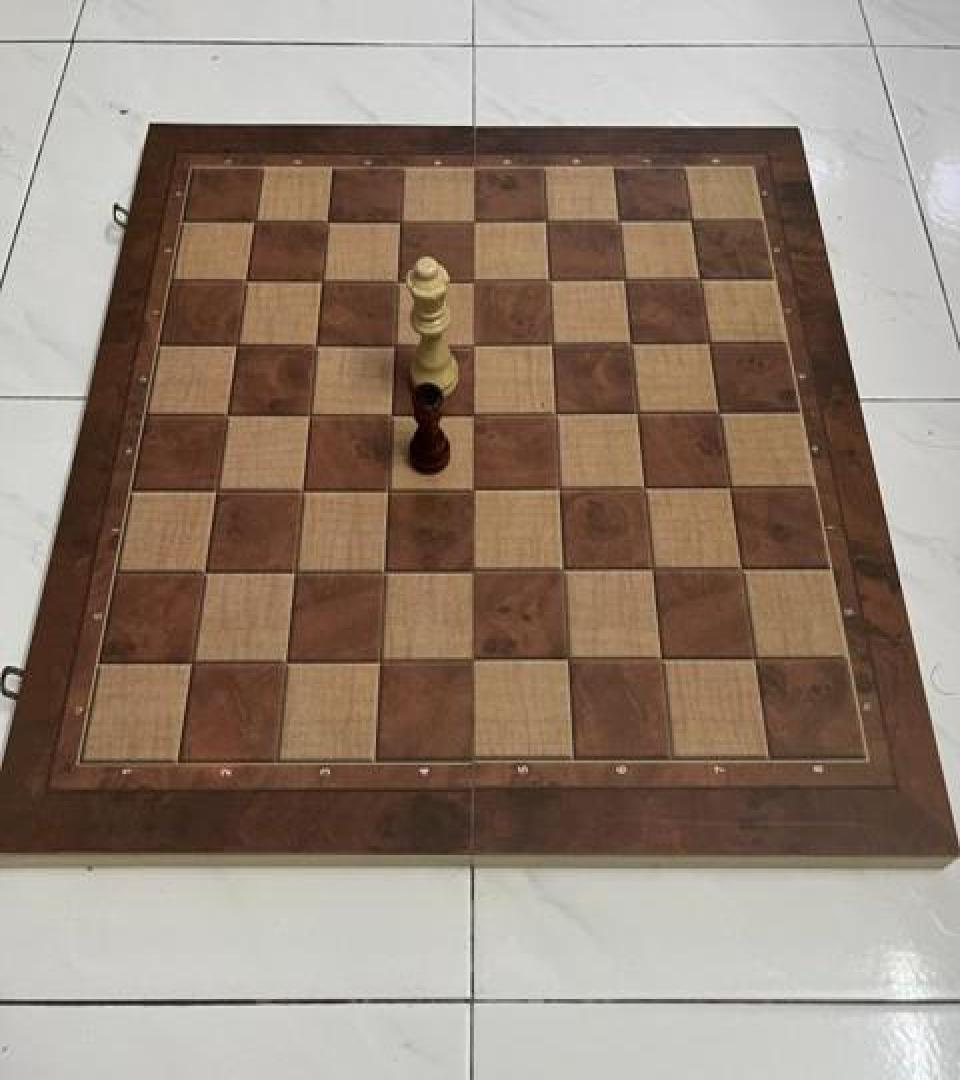xcorner: (677, 202, 709, 238), (604, 200, 636, 236), (531, 200, 563, 236), (458, 200, 490, 236), (385, 200, 417, 236), (312, 200, 344, 236), (239, 199, 271, 235), (685, 260, 717, 296), (610, 260, 642, 296), (534, 260, 566, 296), (459, 260, 491, 296), (383, 260, 415, 296), (307, 259, 339, 295), (231, 259, 263, 295), (695, 324, 727, 360), (616, 324, 648, 360), (537, 324, 569, 360), (459, 324, 491, 360), (380, 324, 412, 360), (301, 324, 333, 360), (222, 324, 254, 360), (704, 394, 736, 430), (623, 394, 655, 430), (541, 394, 573, 430), (459, 394, 491, 430), (377, 394, 409, 430), (294, 394, 326, 430), (212, 392, 244, 428), (715, 469, 747, 505), (630, 469, 662, 505), (544, 469, 576, 505), (459, 469, 491, 505), (373, 469, 405, 505), (287, 469, 319, 505), (201, 469, 233, 505), (727, 551, 759, 587), (638, 551, 670, 587), (548, 551, 580, 587), (459, 551, 491, 587), (369, 551, 401, 587), (279, 551, 311, 587), (189, 551, 221, 587), (740, 641, 772, 677), (646, 641, 678, 677), (553, 641, 585, 677), (459, 641, 491, 677), (365, 642, 397, 678), (271, 642, 303, 678), (177, 642, 209, 678)
